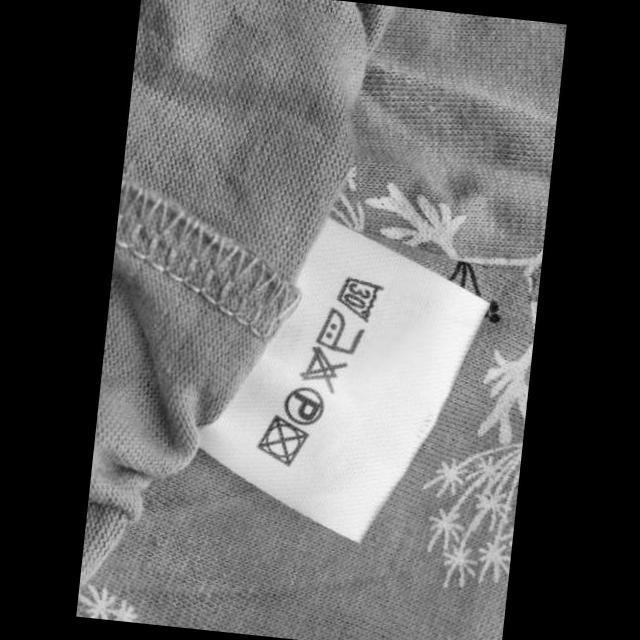30C: (330, 272, 389, 326)
DN_bleach: (294, 340, 352, 399)
DN_tumble_dry: (250, 408, 312, 472)
iron_medium: (310, 304, 370, 358)
normal_dry_clean_solvents: (277, 381, 329, 428)
